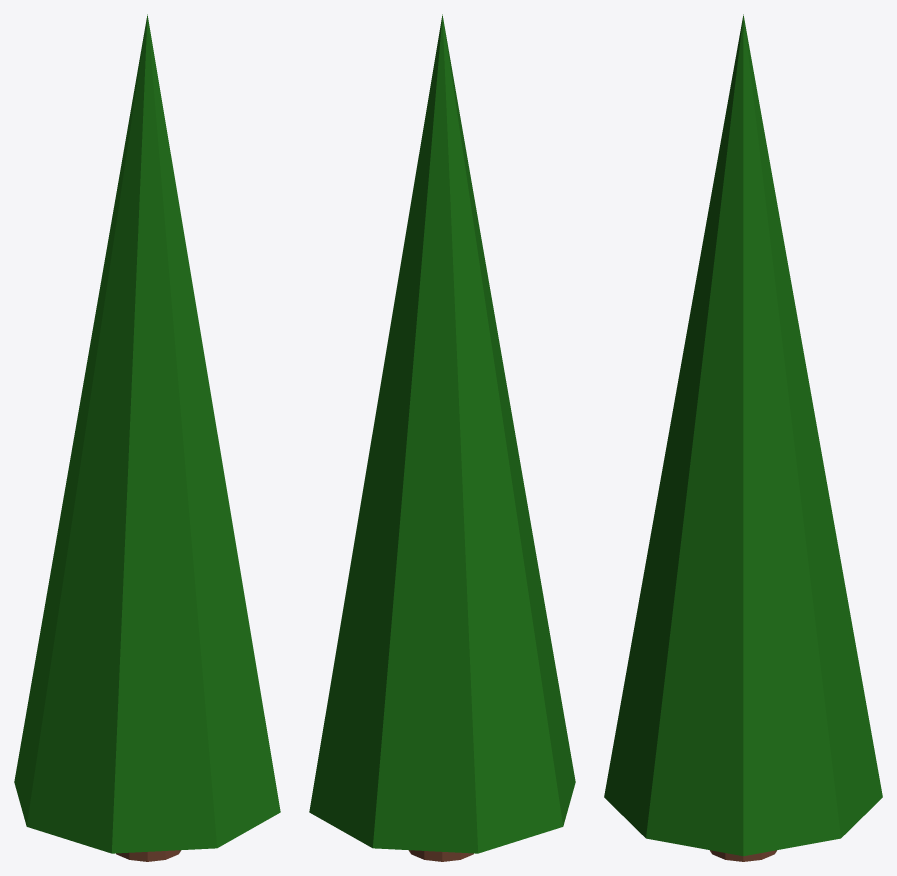
Rendered from Tree_24_summer_vc.fbx.
3 views of the same model, side by side, from view 1: azimuth 30°, elevation 25°; view 2: azimuth 150°, elevation 25°; view 3: azimuth 270°, elevation 25° (orthographic).
Visible parts, largest first — view 1: Tree_24_summer_vc; view 2: Tree_24_summer_vc; view 3: Tree_24_summer_vc.
Boxes of the visible parts, x1,y1,x2,y2 form: Tree_24_summer_vc: [14, 14, 280, 861]; Tree_24_summer_vc: [309, 14, 575, 861]; Tree_24_summer_vc: [604, 14, 882, 861].
Size of the model in its own units: 2.22 by 7.31 by 2.22.
